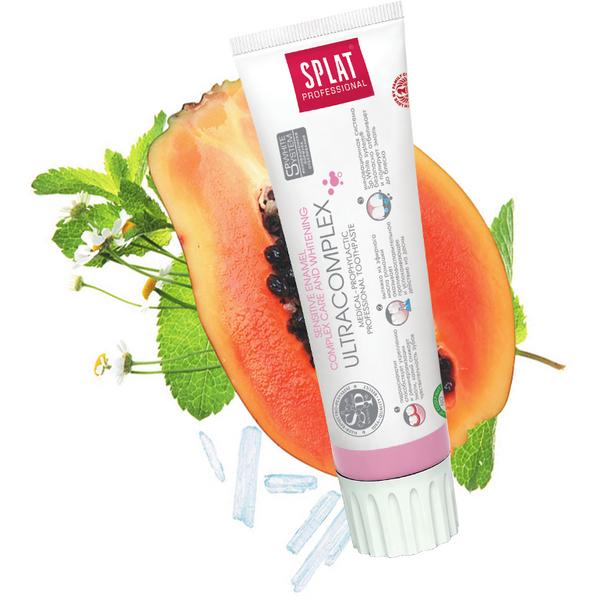toothpaste: (218, 0, 524, 557)
